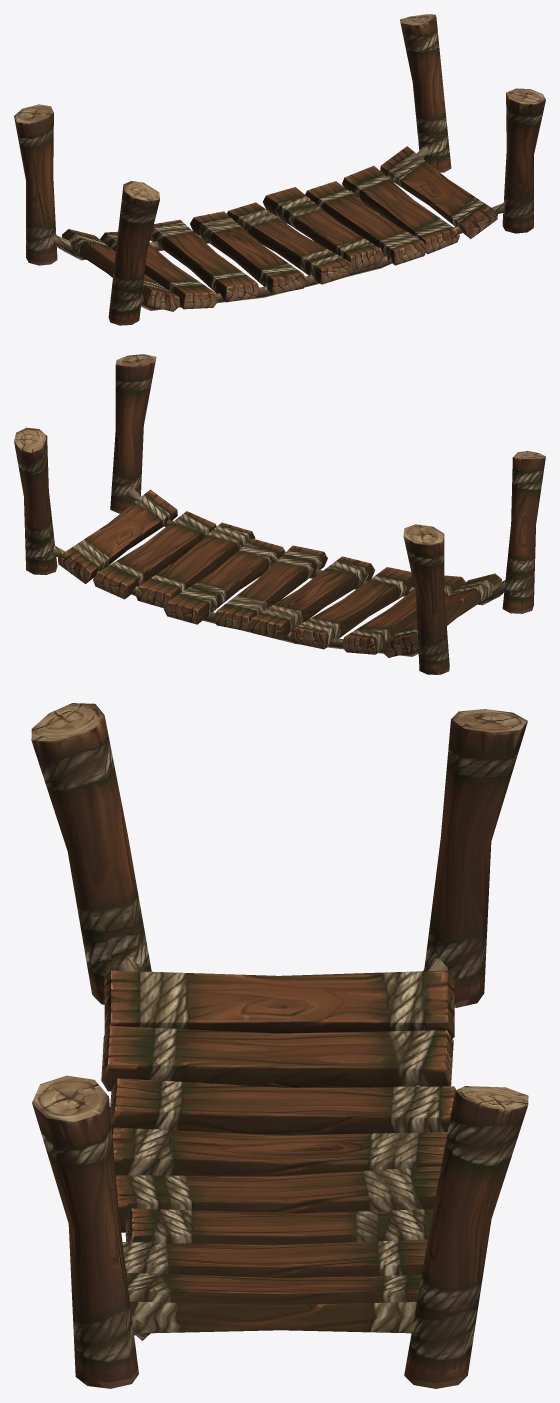
Rendered from rope_bridge_example_01.fbx.
The picture shows the model from 3 angles, top to bottom: view 1: azimuth 30°, elevation 25°; view 2: azimuth 150°, elevation 25°; view 3: azimuth 270°, elevation 25°; orthographic projection. The views are drawn at different scales.
Visible parts, largest first — view 1: rope_bridge_example_01; view 2: rope_bridge_example_01; view 3: rope_bridge_example_01.
Part boxes in pixels (<box>): rope_bridge_example_01: <box>14,14,545,325</box>; rope_bridge_example_01: <box>14,354,545,674</box>; rope_bridge_example_01: <box>31,703,528,1388</box>.
Bounding box in the file's own units: 367 × 132 × 187.
